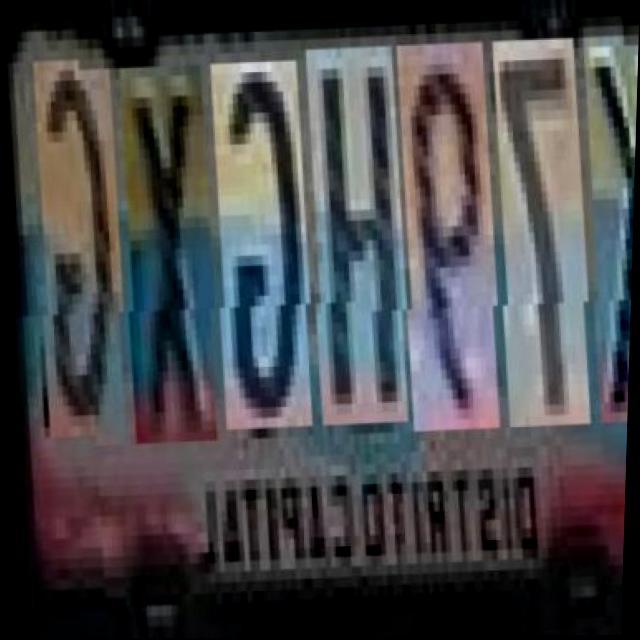7: (477, 37, 594, 427)
9: (380, 40, 502, 430)
g: (196, 57, 315, 427), (18, 65, 130, 443)
h: (291, 45, 412, 423)
k: (568, 33, 639, 423)
x: (104, 62, 219, 440)
